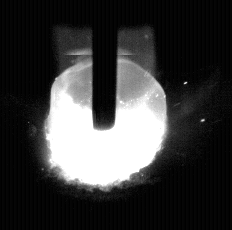arame: (92, 0, 118, 130)
poca: (44, 0, 169, 230)
